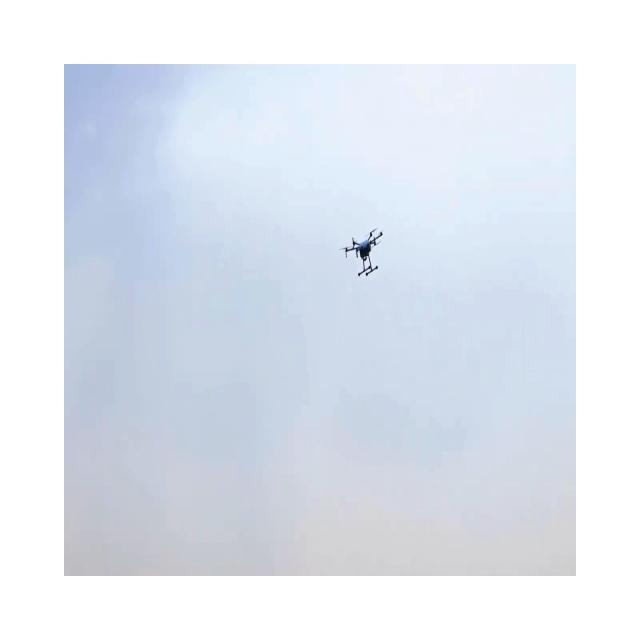drone: (339, 226, 383, 277)
